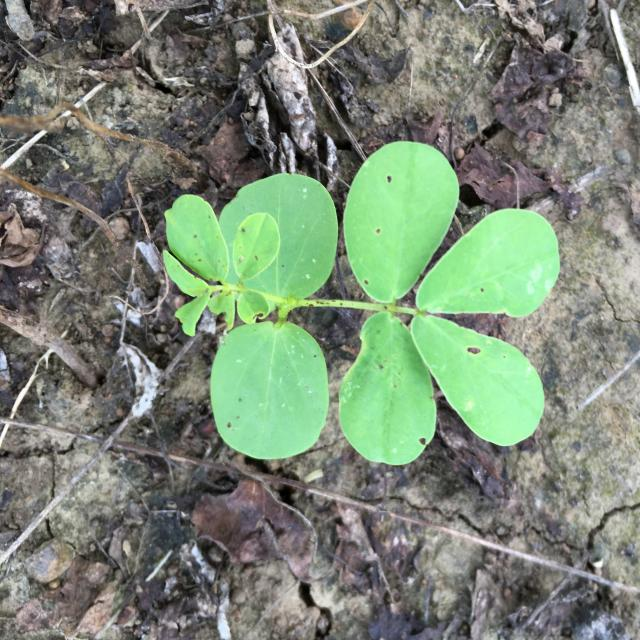Sicklepod: (164, 140, 560, 466)
